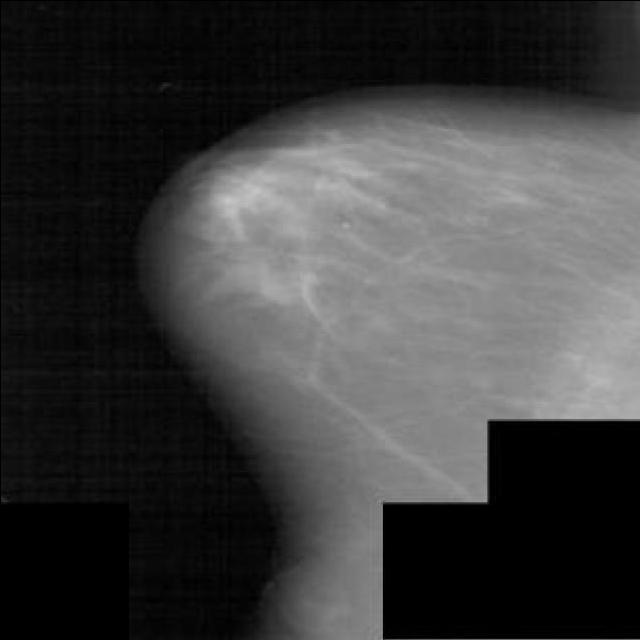tumor: (192, 129, 369, 298)
